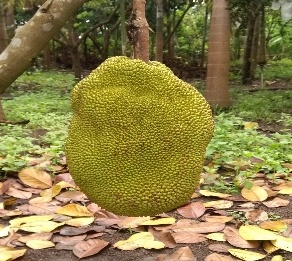Mit: (64, 56, 216, 219)
